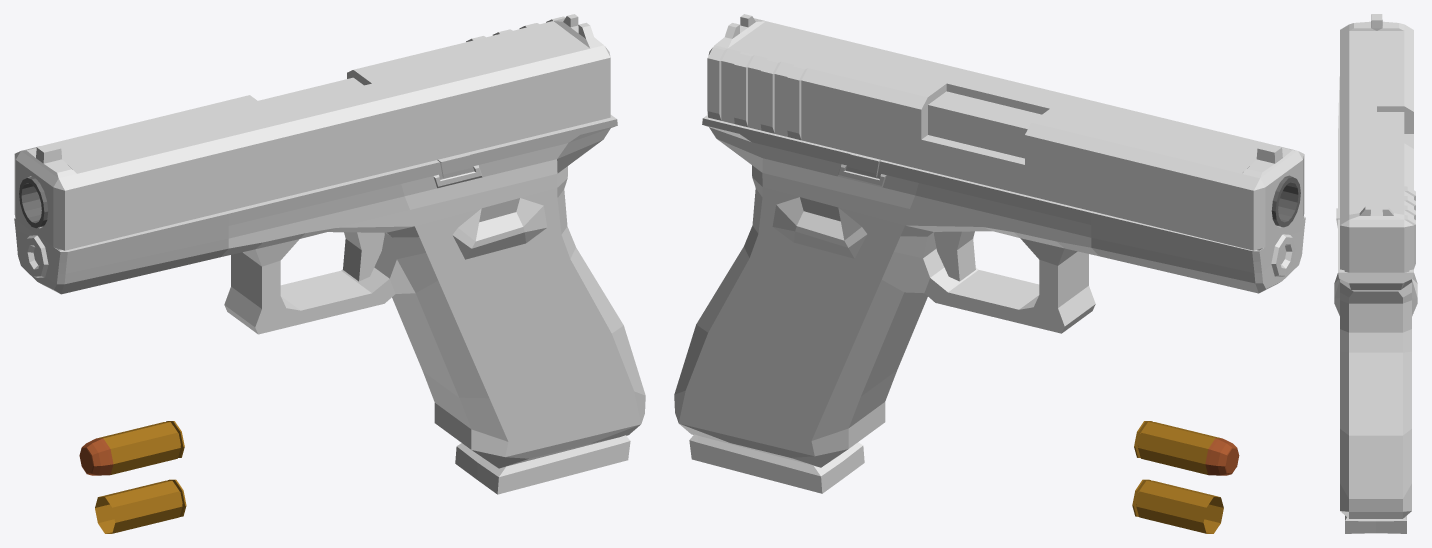
File: Glock_20___1.0.fbx
3 renders of one model, left to right at view 1: azimuth 30°, elevation 25°; view 2: azimuth 150°, elevation 25°; view 3: azimuth 270°, elevation 25°, orthographic. The views are drawn at different scales.
Parts seen in each view (by area): view 1: Glock_20, Mag, BulletFire, bulletCase; view 2: Glock_20, Mag, BulletFire, bulletCase; view 3: Glock_20, Mag.
Boxes of the visible parts, x1,y1,x2,y2 form: Glock_20: (14, 14, 645, 468); Mag: (455, 435, 630, 494); BulletFire: (79, 421, 184, 475); bulletCase: (95, 479, 186, 533); Glock_20: (674, 14, 1305, 467); Mag: (689, 434, 864, 493); BulletFire: (1134, 421, 1239, 475); bulletCase: (1132, 479, 1223, 533); Glock_20: (1334, 14, 1417, 518); Mag: (1345, 515, 1406, 533).
Bounding box in the file's own units: 1032 × 171 × 721.
